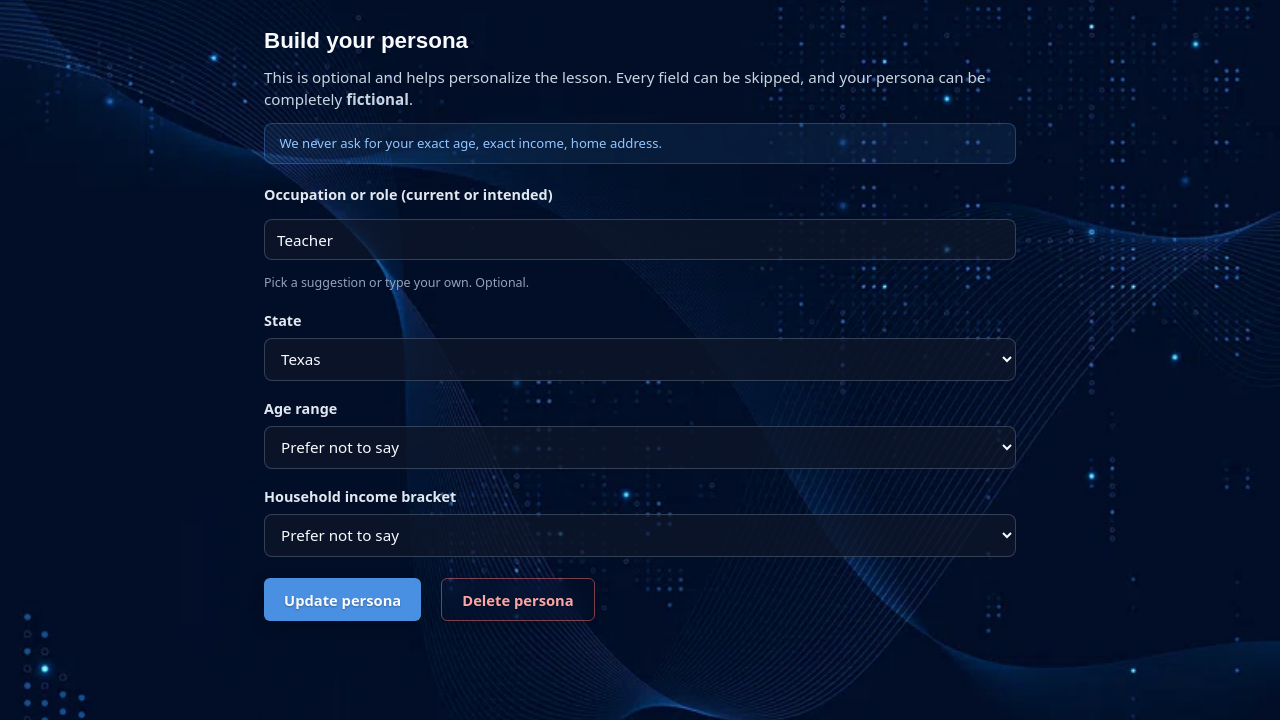
Scenario: PersonaBuilder › deletes a saved persona and clears the form
The image size is (1280, 720).
Expected: the field with test id "persona-occupation" holds "Teacher", [264,219,1016,260]
Click the button with test id "persona-delete" at (518, 600), box [441,578,595,621]
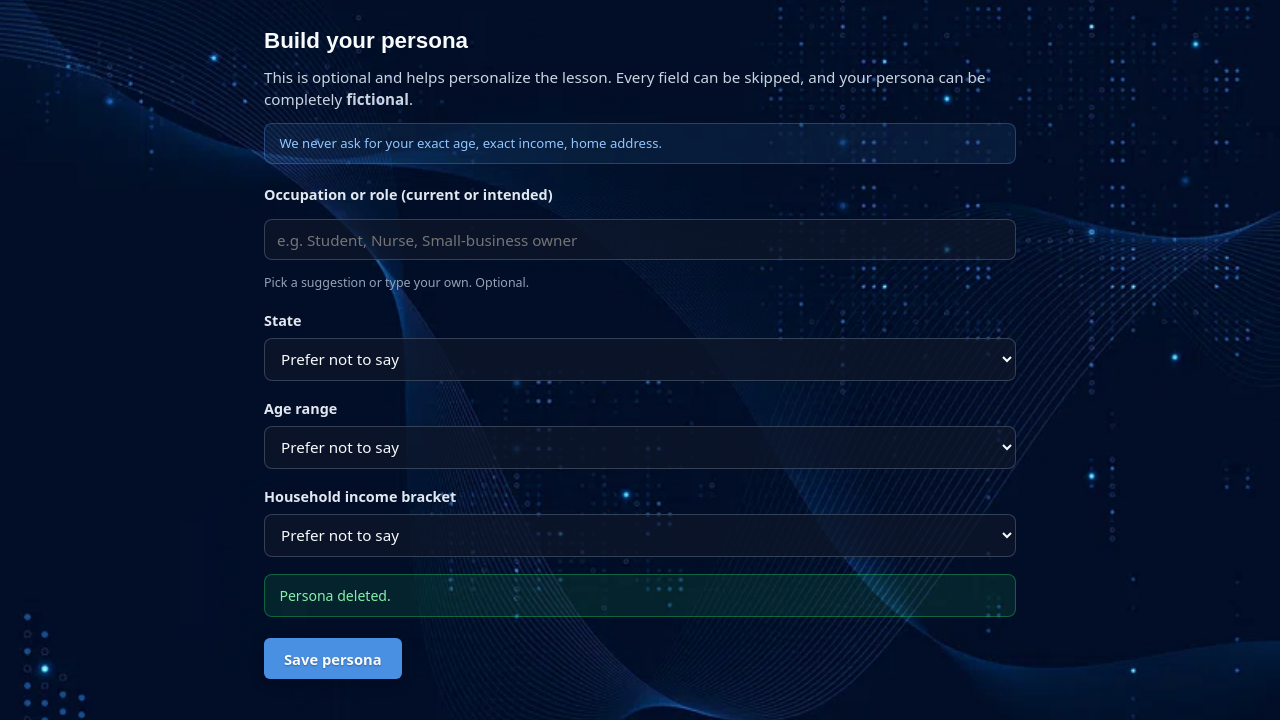
Result: the field with test id "persona-occupation" is empty at [264,219,1016,260]
Result: the message with test id "persona-status" reads "Persona deleted." at [279,586,391,605]
Result: the button with test id "persona-delete" is gone
